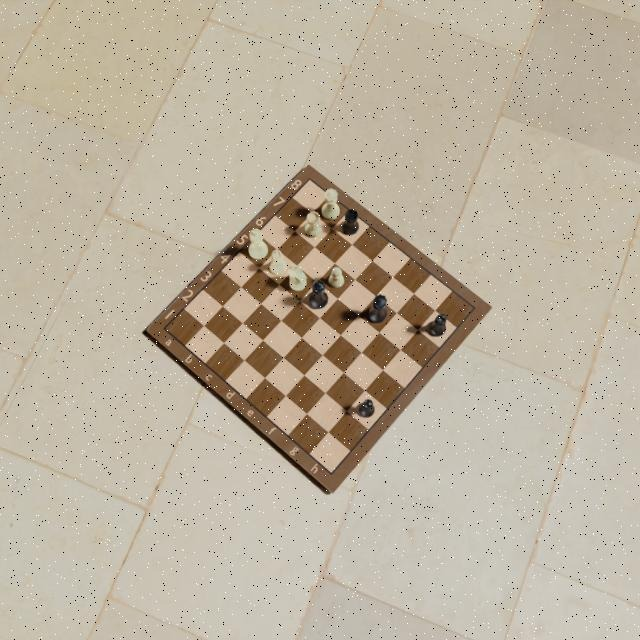black-pawn: (342, 209, 357, 239)
black-rook: (310, 274, 327, 309), (371, 294, 389, 321), (430, 311, 446, 339), (358, 398, 377, 421)
white-knight: (290, 260, 306, 292)
white-pawn: (324, 186, 340, 222), (306, 209, 321, 240), (331, 263, 344, 291)
white-queen: (249, 225, 268, 259)
white-rook: (268, 246, 283, 278)
